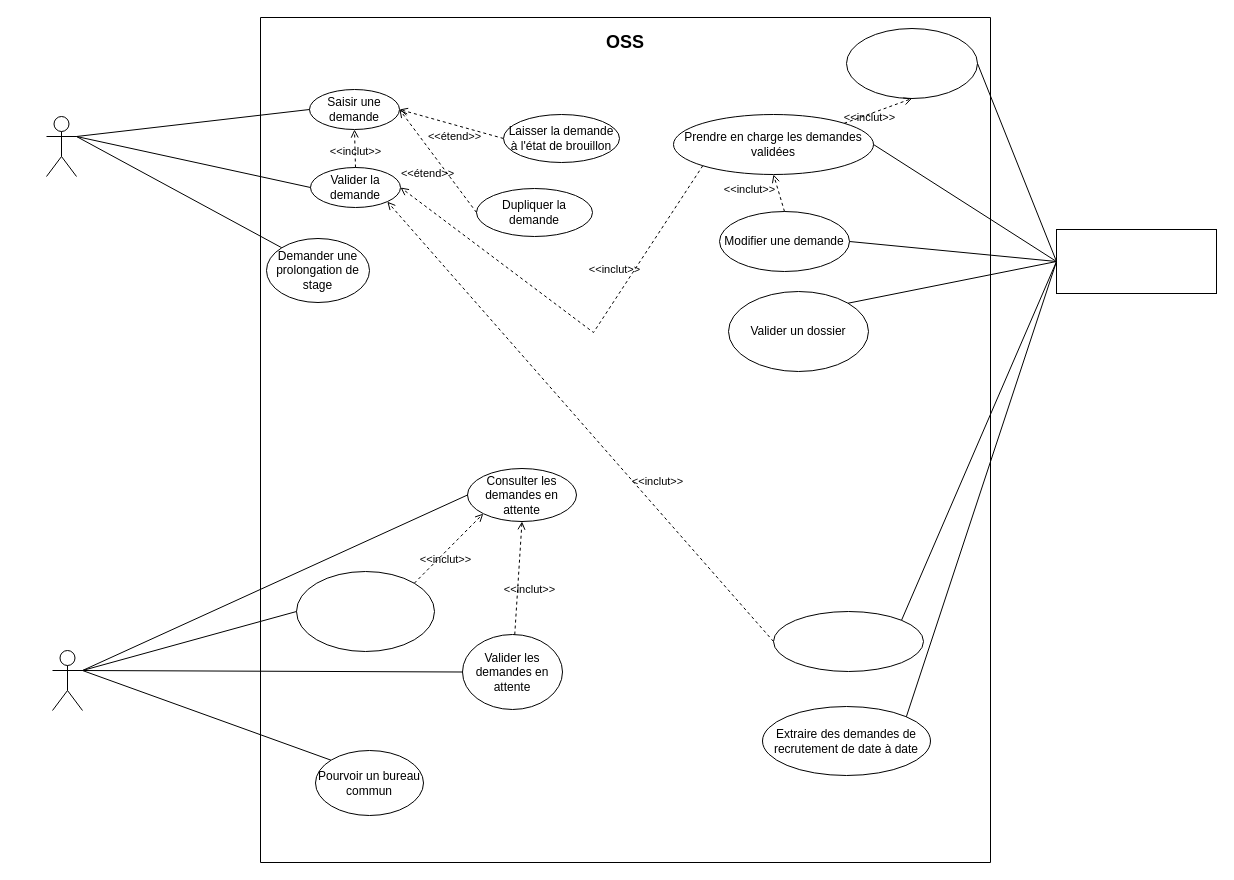
This 1234x880 diagram has some shape labels left out. The shapes that lost their labels are listed below. From the top down, each one's centre as x and y in pixels, then its label:
point 912,63: Consulter les demandes en cours
point 61,146: Recruteur
point 1136,261: Cellule RH
point 365,611: Modifie les demandes pour proposer un autre bureau
point 848,641: Annuler une demande
point 67,680: Chargé des locaux
